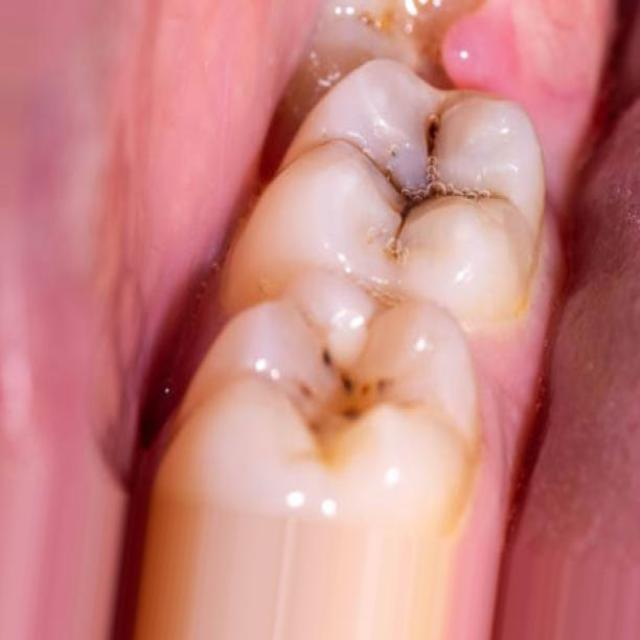caries: (250, 304, 415, 472), (344, 94, 510, 258)
